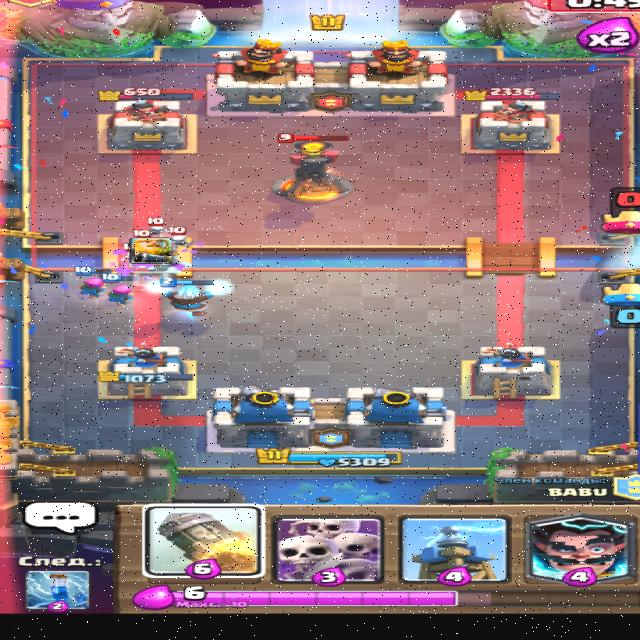Enemy-InfernoTower: (268, 133, 355, 204)
Enemy-Skeleton: (166, 226, 193, 250), (145, 217, 164, 236)
Player-Archer: (72, 265, 111, 299), (100, 274, 136, 306)
Player-IceWizard: (145, 277, 232, 316)
